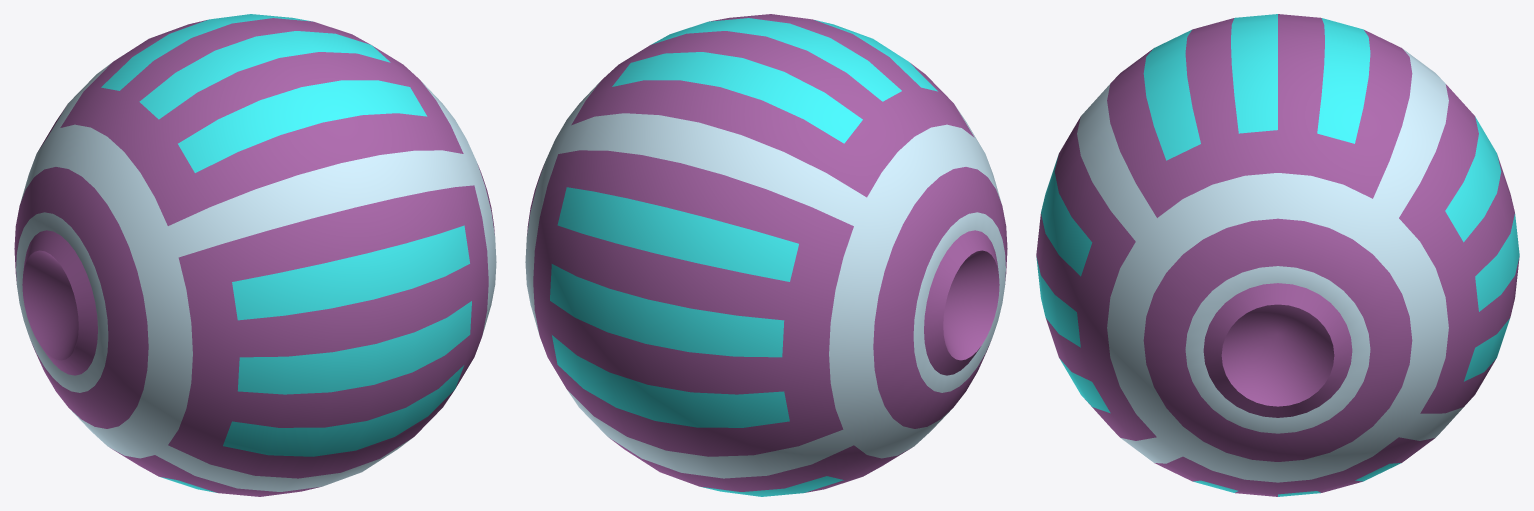
The model's file is ball_purpleblue.fbx.
3 views of the same model, side by side, from view 1: azimuth 30°, elevation 25°; view 2: azimuth 150°, elevation 25°; view 3: azimuth 270°, elevation 25° (orthographic).
Parts seen in each view (by area): view 1: Coloured Ball 4; view 2: Coloured Ball 4; view 3: Coloured Ball 4.
Part boxes in pixels (box(x1,y1,x2,y2)): Coloured Ball 4: box(14, 14, 496, 496); Coloured Ball 4: box(525, 14, 1007, 496); Coloured Ball 4: box(1036, 14, 1519, 496).
Bounding box in the file's own units: 43.26 × 44.16 × 44.16.
